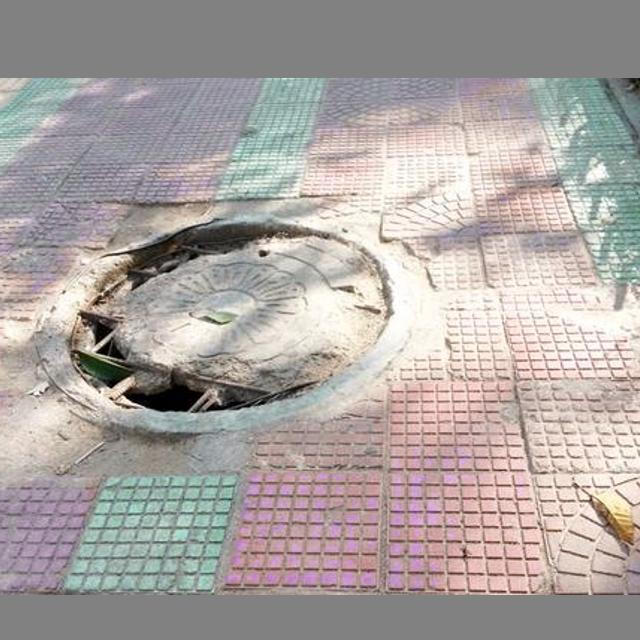broke: (37, 206, 426, 432)
